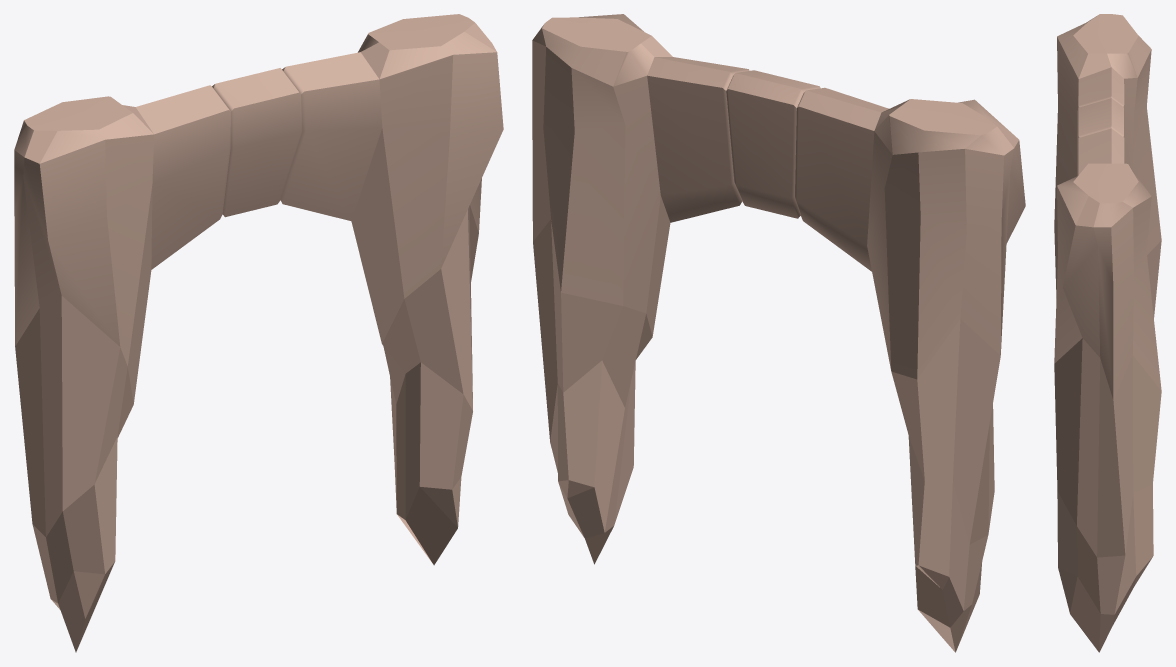
The model's file is archeVolcan.fbx.
3 renders of one model, left to right at view 1: azimuth 30°, elevation 25°; view 2: azimuth 150°, elevation 25°; view 3: azimuth 270°, elevation 25°, orthographic. The views are drawn at different scales.
Parts seen in each view (by area): view 1: archeVolcan; view 2: archeVolcan; view 3: archeVolcan.
Part boxes in pixels (x1=…): archeVolcan: x1=14, y1=14, x2=503, y2=652; archeVolcan: x1=532, y1=14, x2=1025, y2=652; archeVolcan: x1=1054, y1=14, x2=1161, y2=652.
Bounding box in the file's own units: 170 × 185 × 38.5.
